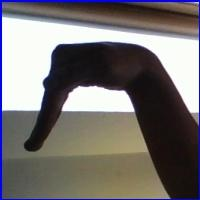A: (25, 40, 176, 174)
